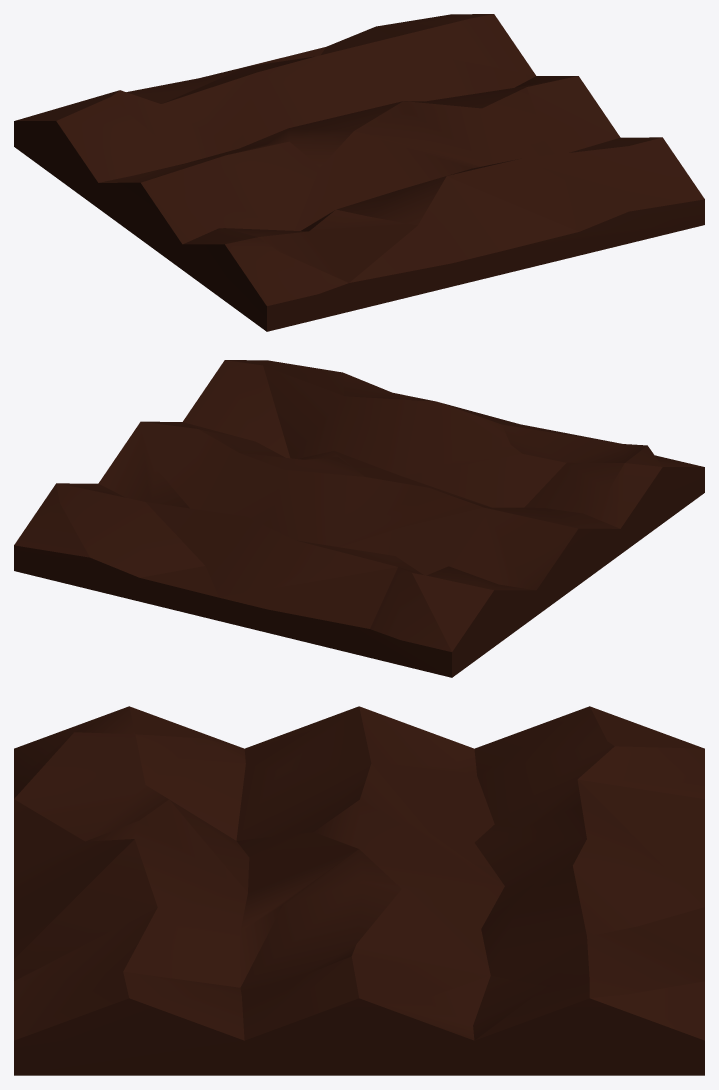
Rendered from Mud_Patch_H.fbx.
The picture shows the model from 3 angles, top to bottom: view 1: azimuth 30°, elevation 25°; view 2: azimuth 150°, elevation 25°; view 3: azimuth 270°, elevation 25°; orthographic projection. The views are drawn at different scales.
Visible parts, largest first — view 1: Mud_Patch_H; view 2: Mud_Patch_H; view 3: Mud_Patch_H.
Part boxes in pixels (left/top/right/bottom): Mud_Patch_H: left=14, top=14, right=704, bottom=331; Mud_Patch_H: left=14, top=360, right=704, bottom=677; Mud_Patch_H: left=14, top=706, right=704, bottom=1075.
Bounding box in the file's own units: 147 × 22.04 × 147.
